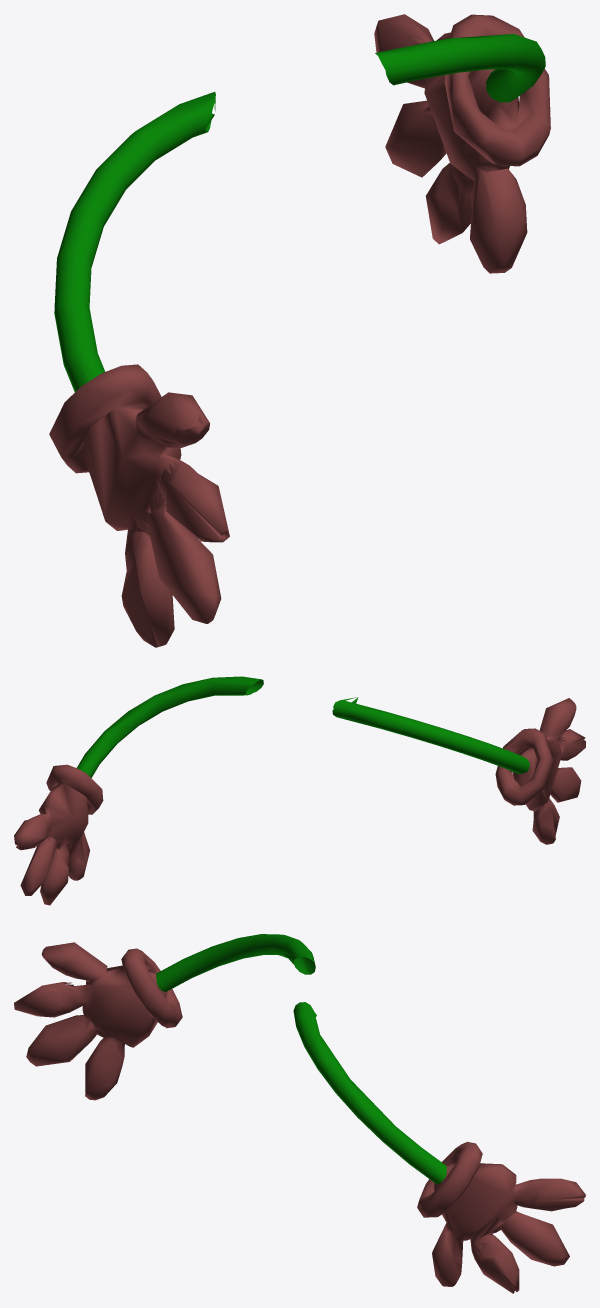
Rendered from rece1.obj.
The picture shows the model from 3 angles, top to bottom: view 1: azimuth 30°, elevation 25°; view 2: azimuth 150°, elevation 25°; view 3: azimuth 270°, elevation 25°; orthographic projection. The views are drawn at different scales.
Parts seen in each view (by area): view 1: Rece, DlonPrawa1, DlonLewa1, DlonLewa2, DlonPrawa2; view 2: Rece, DlonLewa1, DlonPrawa1, DlonPrawa2, DlonLewa2; view 3: Rece, DlonPrawa1, DlonLewa1, DlonLewa2, DlonPrawa2.
Boxes of the visible parts, box(x1,y1,x2,y2) form: Rece: box(54, 34, 545, 391); DlonPrawa1: box(409, 14, 550, 273); DlonLewa1: box(49, 364, 209, 552); DlonLewa2: box(121, 422, 229, 647); DlonPrawa2: box(374, 14, 471, 244); Rece: box(77, 676, 529, 777); DlonLewa1: box(495, 698, 576, 823); DlonPrawa1: box(38, 764, 103, 880); DlonPrawa2: box(14, 814, 78, 905); DlonLewa2: box(532, 729, 585, 844); Rece: box(156, 934, 446, 1183); DlonPrawa1: box(417, 1141, 539, 1286); DlonLewa1: box(43, 942, 182, 1064); DlonLewa2: box(14, 950, 124, 1100); DlonPrawa2: box(453, 1178, 585, 1293).
Size of the model in its own units: 1.17 by 0.5777 by 1.35.
